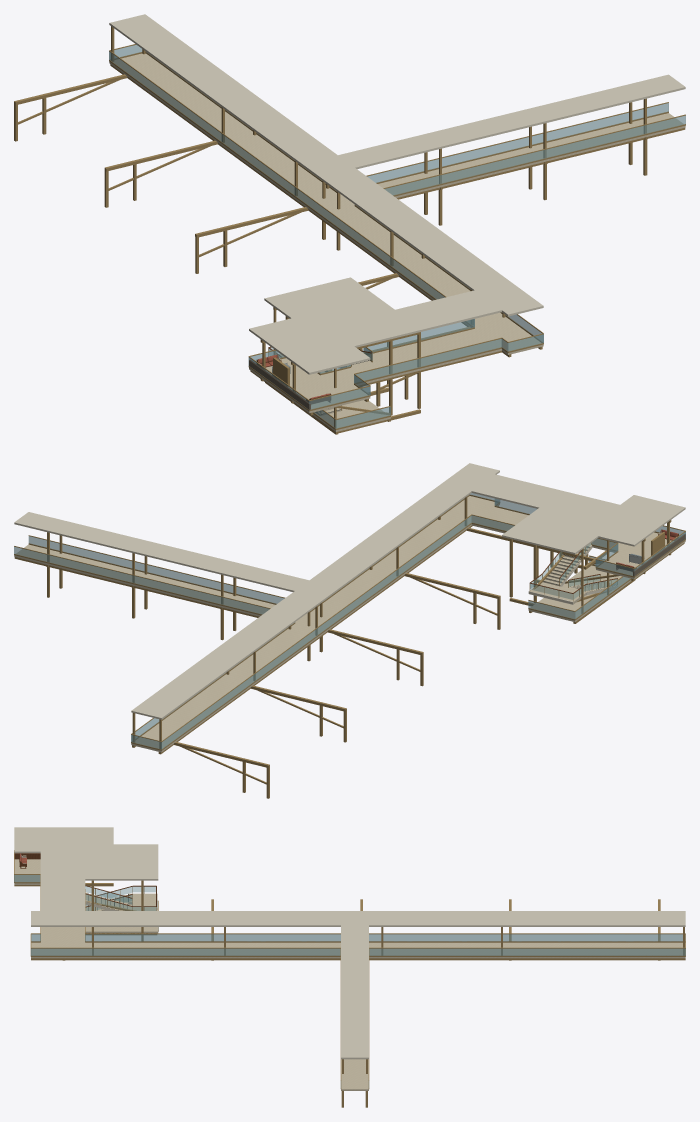
File: D04_PORT_FORWARD_RECEIVING_r001.glb
The picture shows the model from 3 angles, top to bottom: view 1: azimuth 30°, elevation 25°; view 2: azimuth 150°, elevation 25°; view 3: azimuth 270°, elevation 25°; orthographic projection. The views are drawn at different scales.
Visible parts, largest first — view 1: D04PF_ReceivedRoof, D04PF_ReceivedFloor, D04PF_UpperGuard_17, D04PF_UpperGuard_12, D04PF_UpperGuard_14, D04PF_UpperGuard_08, D04PF_StaffLowerLanding, D04PF_UpperGuard_17_Base, D04PF_UpperGuard_00, D04PF_PublicLong_-403.75, D04PF_StreetLong_-45.8, D04PF_UpperGuard_17_Cap (+1 smaller); view 2: D04PF_ReceivedRoof, D04PF_ReceivedFloor, D04PF_UpperGuard_17, D04PF_UpperGuard_14, D04PF_UpperGuard_12, D04PF_StaffLowerLanding, D04PF_Stair, D04PF_UpperGuard_17_Base, D04PF_StreetLong_-45.8, D04PF_UpperGuard_17_Cap, D04PF_PublicLong_-406.65; view 3: D04PF_ReceivedRoof, D04PF_ReceivedFloor, D04PF_UpperGuard_17, D04PF_UpperGuard_15, D04PF_UpperGuard_11, D04PF_StreetLong_-42.2, D04PF_UpperGuard_17_Base, D04PF_UpperGuard_17_Cap, D04PF_Stair, D04PF_UpperGuard_15_Cap, D04PF_UpperGuard_15_Base, D04PF_UpperGuard_11_Cap (+2 smaller).
Part boxes in pixels (left/top/right/bottom): D04PF_ReceivedRoof: left=109, top=14, right=685, bottom=374; D04PF_ReceivedFloor: left=109, top=53, right=685, bottom=413; D04PF_UpperGuard_17: left=109, top=51, right=474, bottom=326; D04PF_UpperGuard_12: left=384, top=115, right=685, bottom=195; D04PF_UpperGuard_14: left=367, top=103, right=668, bottom=182; D04PF_UpperGuard_08: left=354, top=339, right=501, bottom=382; D04PF_StaffLowerLanding: left=313, top=371, right=390, bottom=431; D04PF_UpperGuard_17_Base: left=109, top=60, right=473, bottom=327; D04PF_UpperGuard_00: left=363, top=319, right=474, bottom=351; D04PF_PublicLong_-403.75: left=397, top=128, right=685, bottom=199; D04PF_StreetLong_-45.8: left=110, top=64, right=511, bottom=357; D04PF_UpperGuard_17_Cap: left=109, top=50, right=446, bottom=297; D04PF_ReceivedRoof: left=14, top=463, right=685, bottom=719; D04PF_ReceivedFloor: left=14, top=496, right=685, bottom=752; D04PF_UpperGuard_17: left=161, top=515, right=471, bottom=749; D04PF_UpperGuard_14: left=14, top=546, right=269, bottom=614; D04PF_UpperGuard_12: left=28, top=536, right=284, bottom=603; D04PF_StaffLowerLanding: left=528, top=565, right=631, bottom=621; D04PF_Stair: left=542, top=542, right=617, bottom=597; D04PF_UpperGuard_17_Base: left=161, top=522, right=471, bottom=750; D04PF_StreetLong_-45.8: left=158, top=525, right=472, bottom=754; D04PF_UpperGuard_17_Cap: left=161, top=514, right=471, bottom=741; D04PF_PublicLong_-406.65: left=14, top=557, right=259, bottom=617; D04PF_ReceivedRoof: left=14, top=827, right=685, bottom=1059; D04PF_ReceivedFloor: left=14, top=859, right=685, bottom=1090; D04PF_UpperGuard_17: left=85, top=934, right=685, bottom=941; D04PF_UpperGuard_15: left=369, top=948, right=685, bottom=955; D04PF_UpperGuard_11: left=31, top=948, right=340, bottom=955; D04PF_StreetLong_-42.2: left=31, top=958, right=685, bottom=960; D04PF_UpperGuard_17_Base: left=85, top=941, right=685, bottom=942; D04PF_UpperGuard_17_Cap: left=85, top=933, right=685, bottom=934; D04PF_Stair: left=85, top=885, right=132, bottom=910; D04PF_UpperGuard_15_Cap: left=369, top=947, right=685, bottom=948; D04PF_UpperGuard_15_Base: left=369, top=955, right=685, bottom=956; D04PF_UpperGuard_11_Cap: left=31, top=947, right=340, bottom=948.
Bounding box in the file's own units: 66.04 × 9.22 × 81.28.
28 materials, 25 textured.
